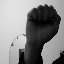a: (25, 3, 61, 47)
